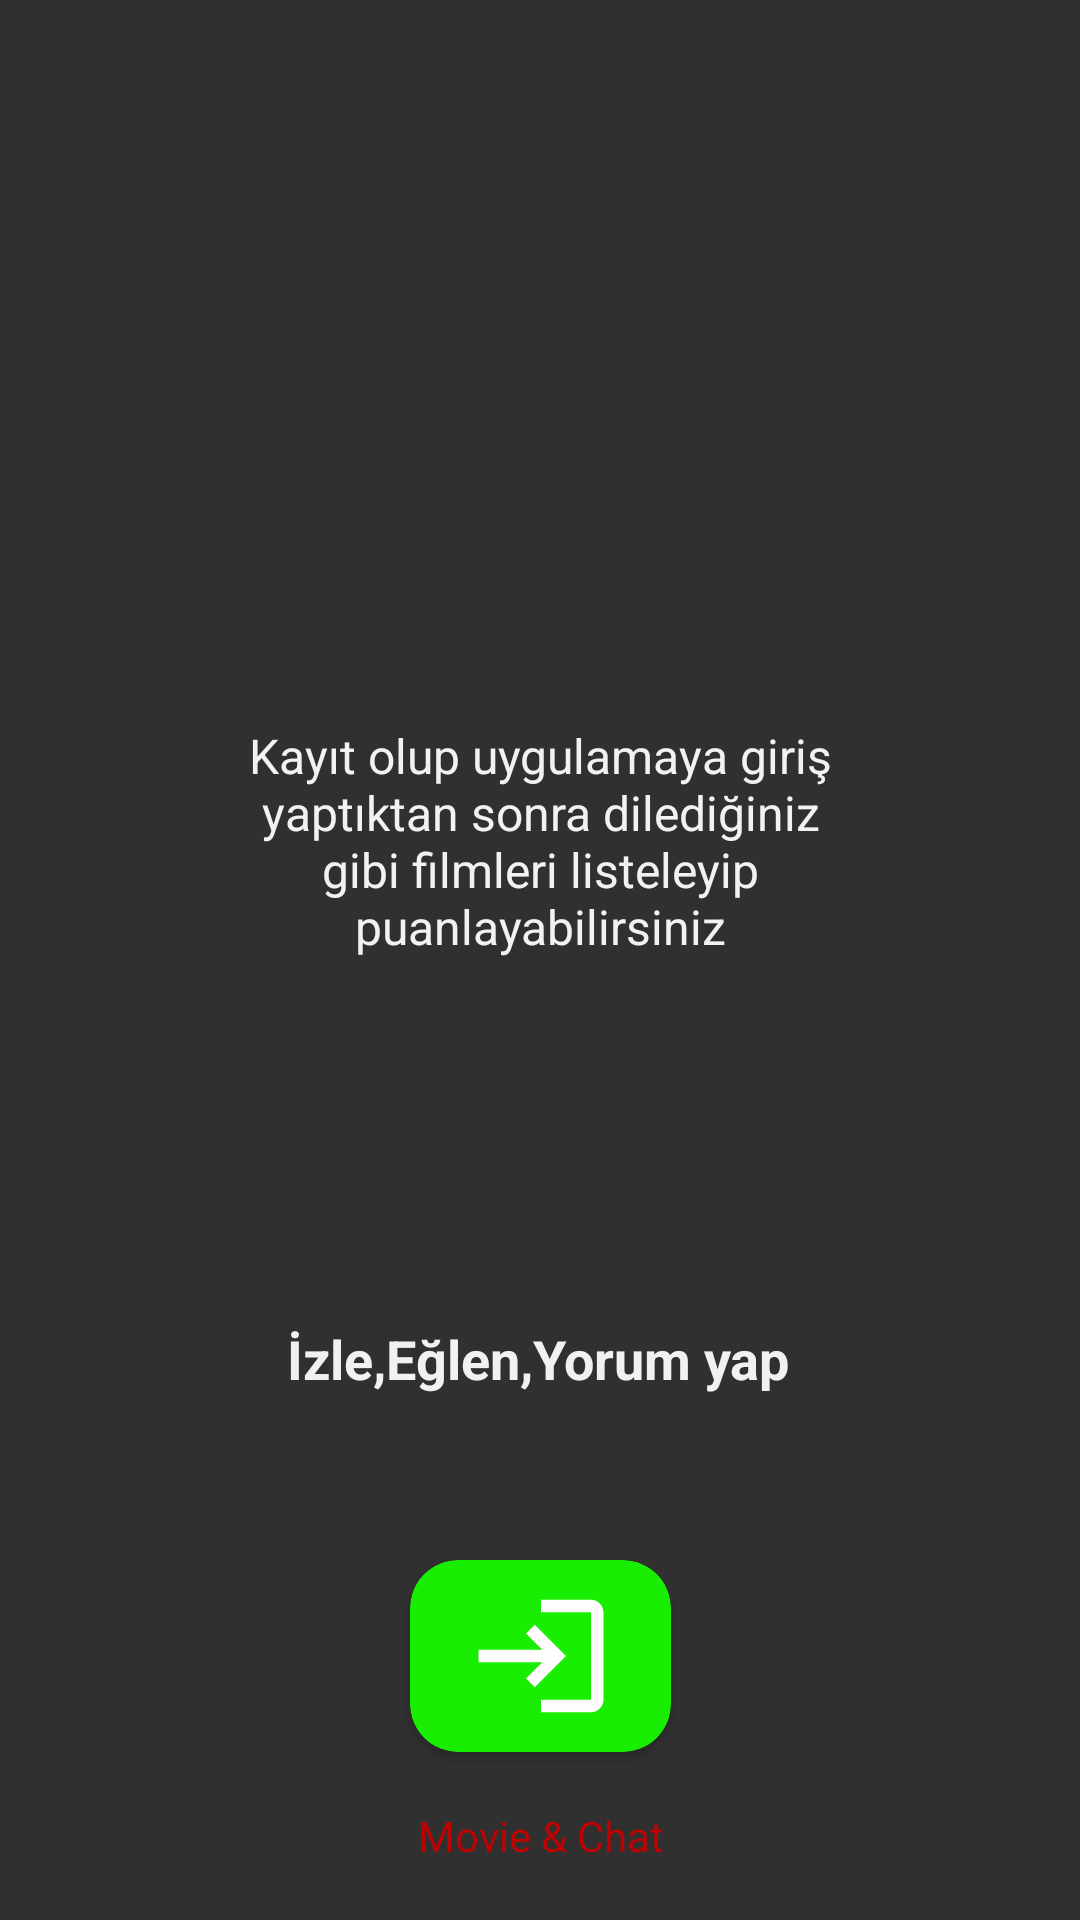

Point at icon controls on the screen. Image size 1080px x 1920px, points as (x,y).
loginn: (540,1656)
